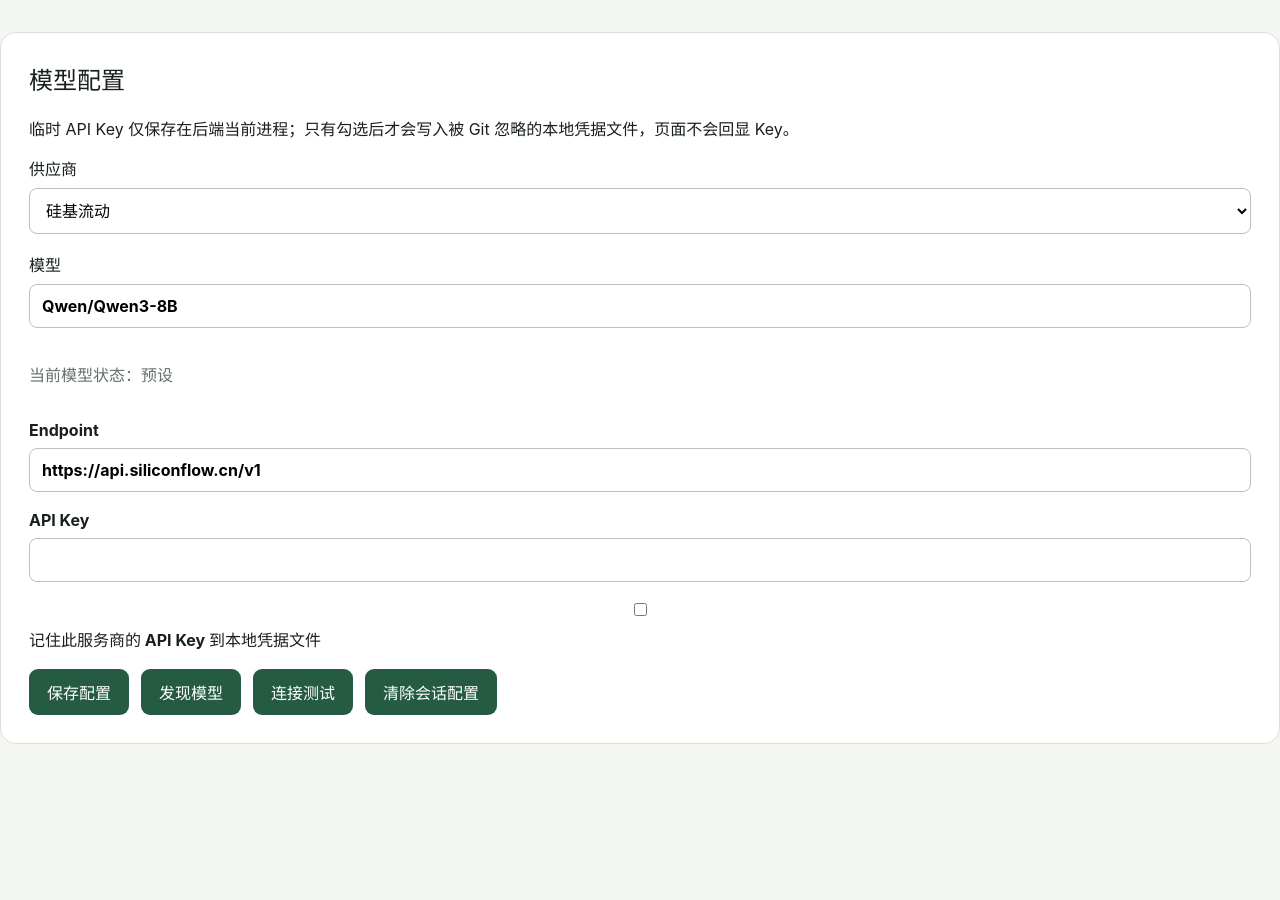
Test: 模型配置只发送临时 Key，不写入浏览器本地存储
Check: the button "保存配置" is shown, box [29,669,129,715]
Type "temporary-secret" into the password field labelled "API Key" at (640, 560), box [29,538,1251,582]
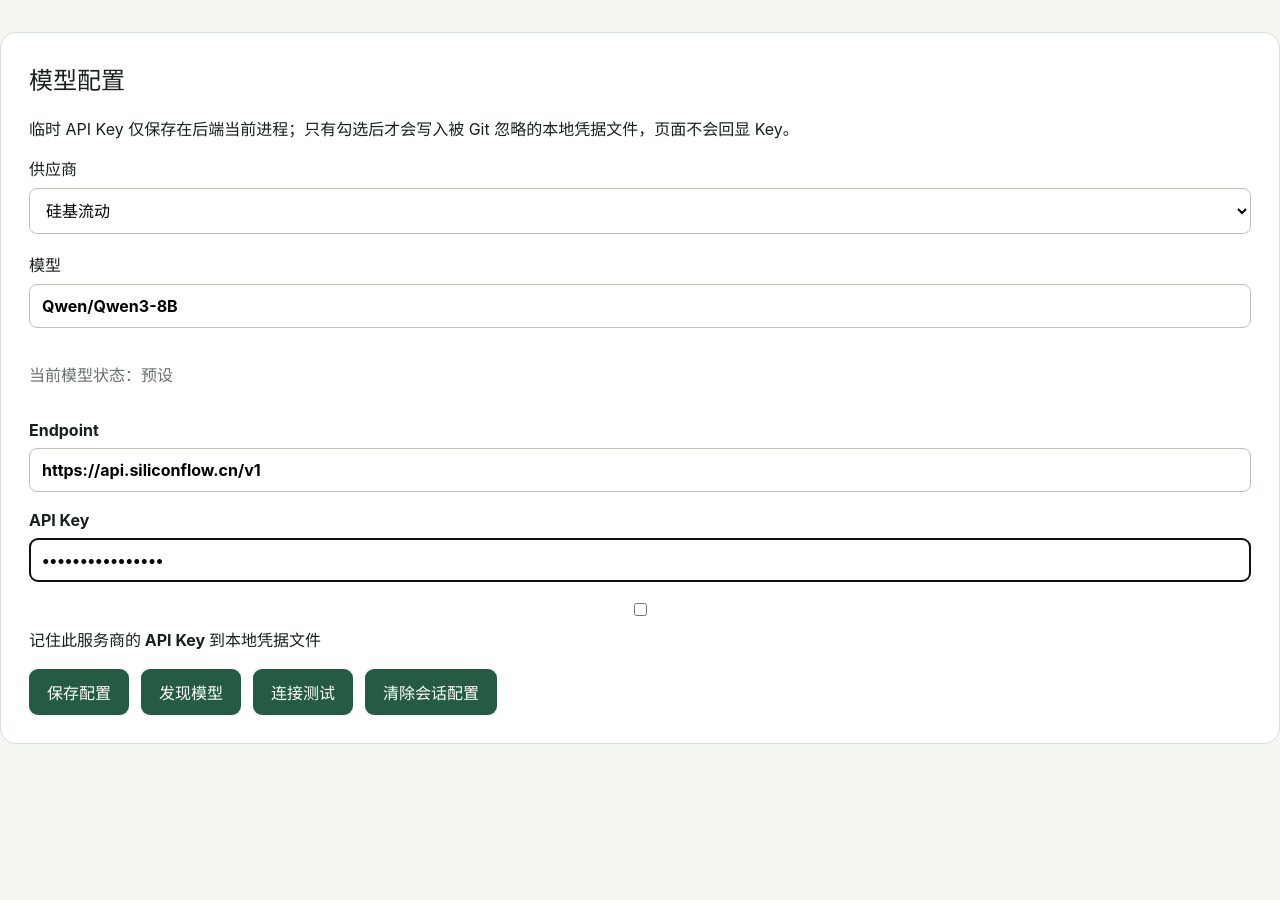
Click the button "保存配置" at (79, 692), box [29,669,129,715]
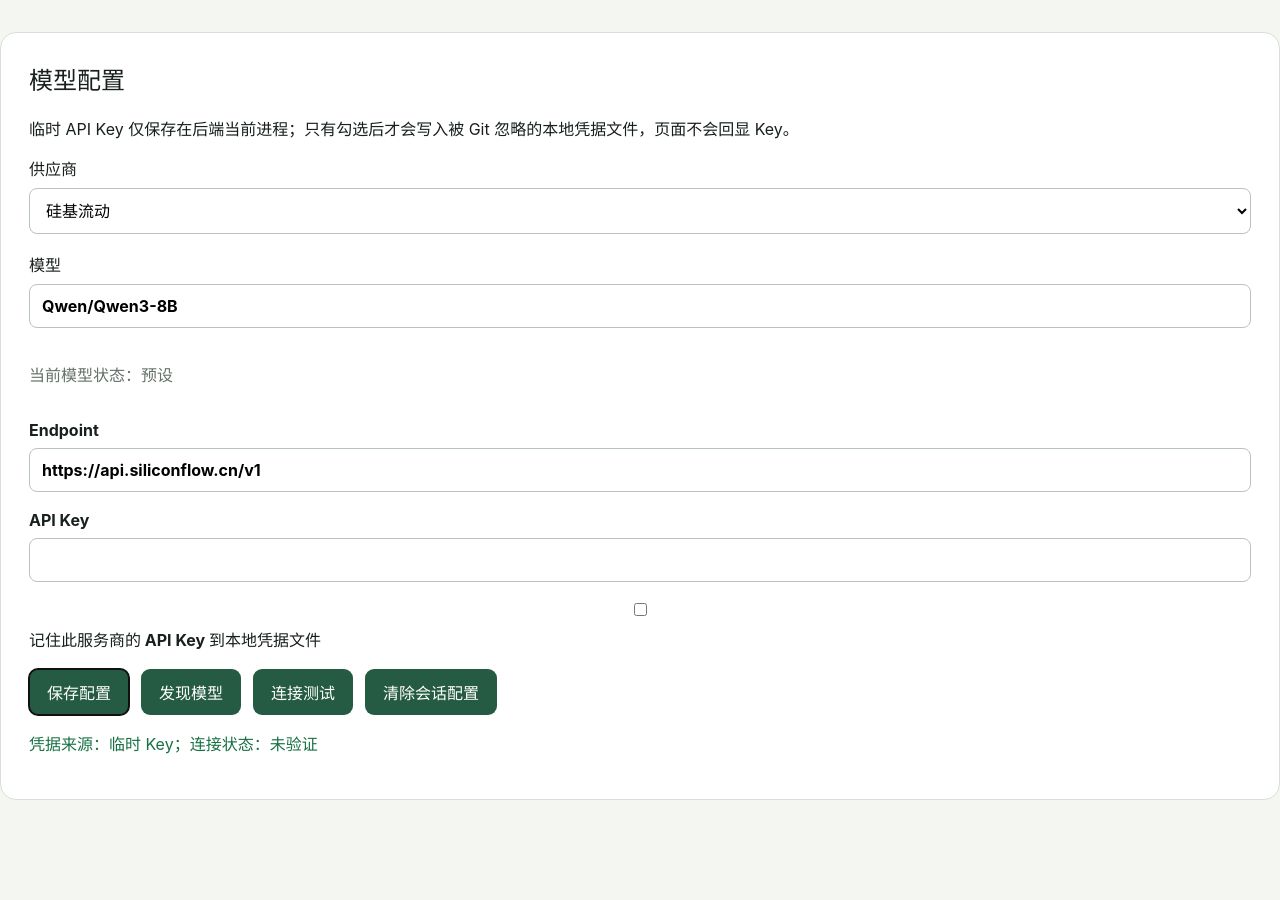
Check: the text "凭据来源：临时 Key；连接状态：未验证" is shown, box [29,734,318,754]
